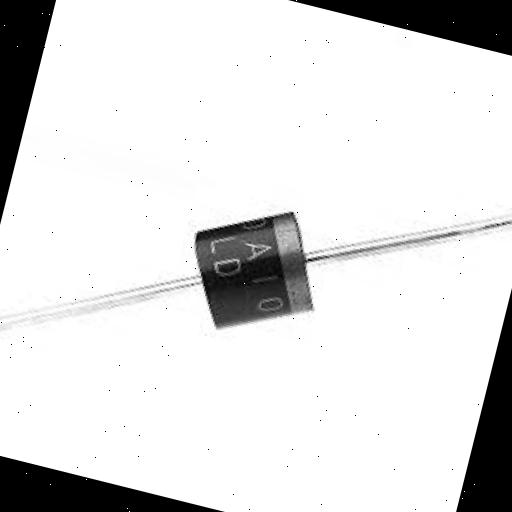DIODE: (171, 188, 336, 352)
